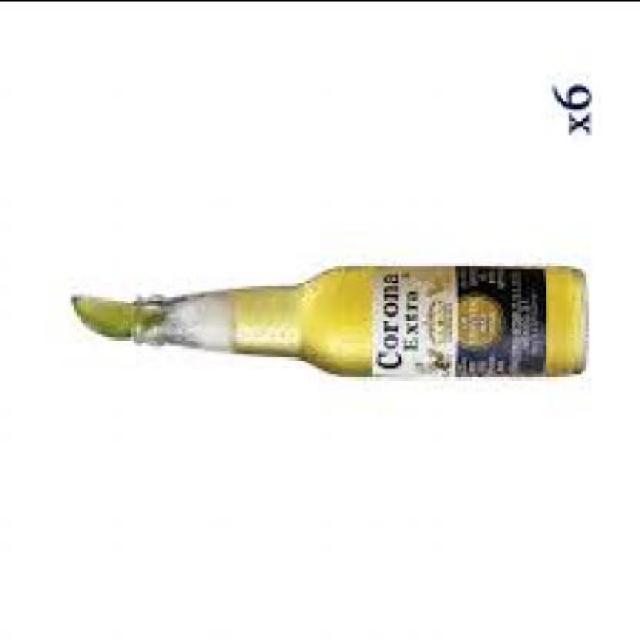BIODEGRADABLE: (68, 296, 165, 342)
GLASS: (131, 264, 583, 382)
